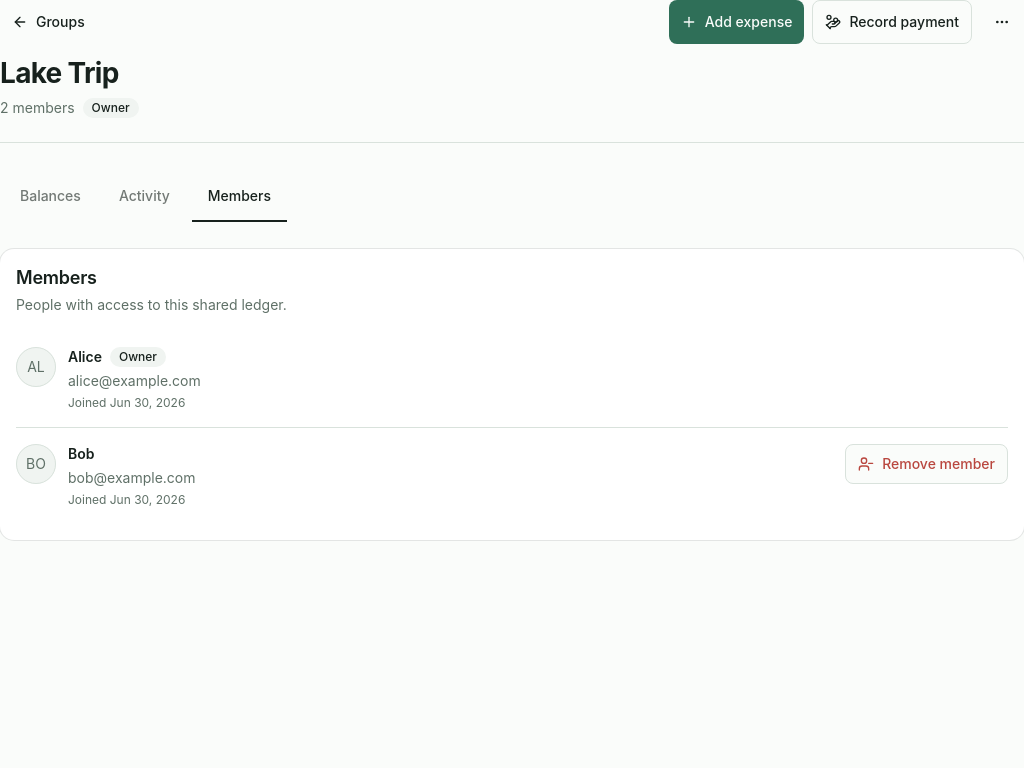
Test: owner member removal revalidation › keeps the member and ordinary failure when detail 200 still contains the target
Click the button with aria-label "Remove member Bob" at (927, 464), box [845,444,1008,484]
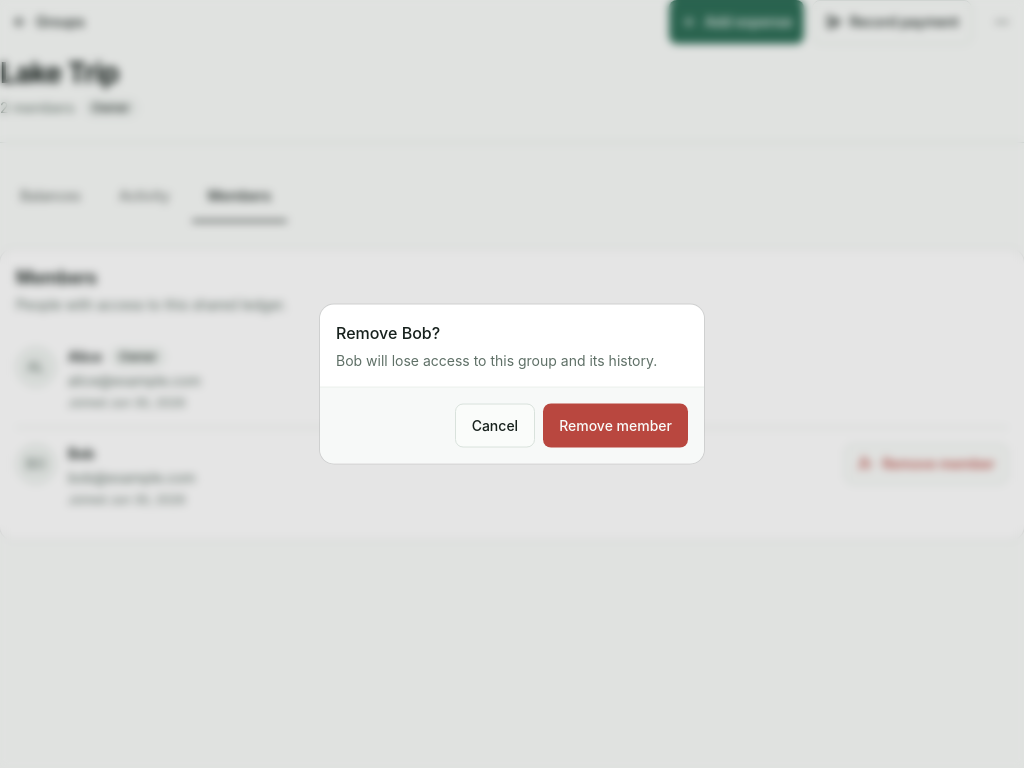
Now the dialog is shown, box [320,304,704,464]
Click the button "Remove member" at (616, 426), box [543,404,688,448]
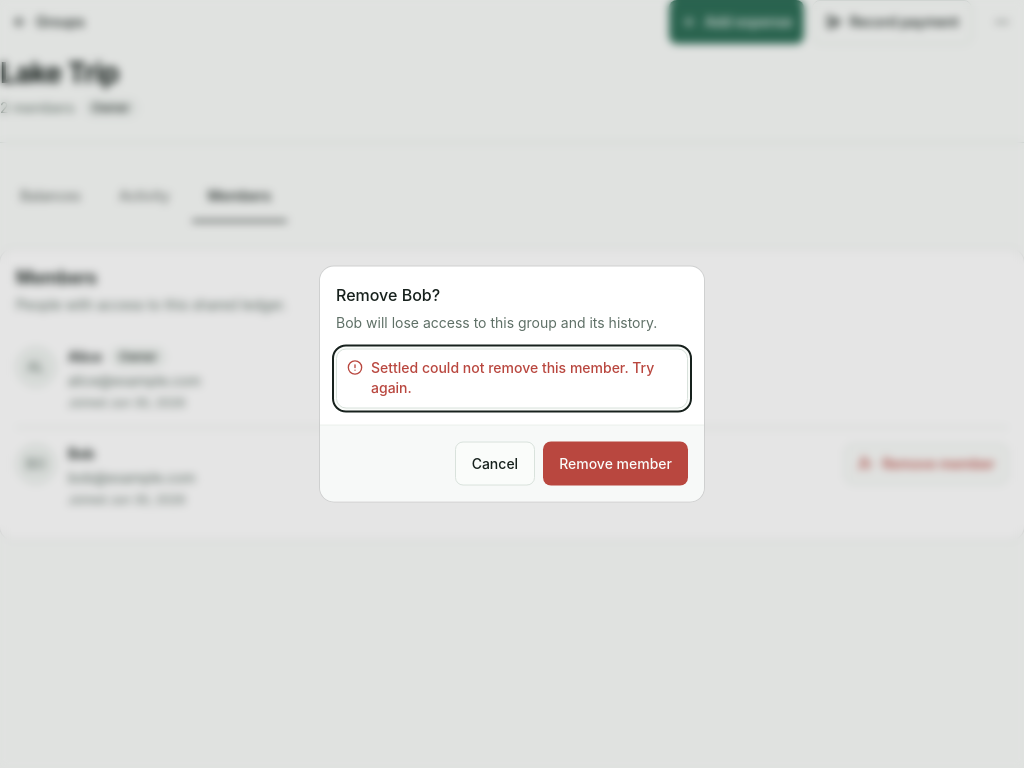
Now the dialog is shown, box [320,266,704,502]
Now the text "Settled could not remove this member. Try again." is shown, box [371,358,677,398]
